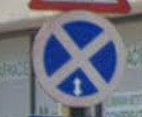oprirea_interzisa: (27, 9, 127, 109)
